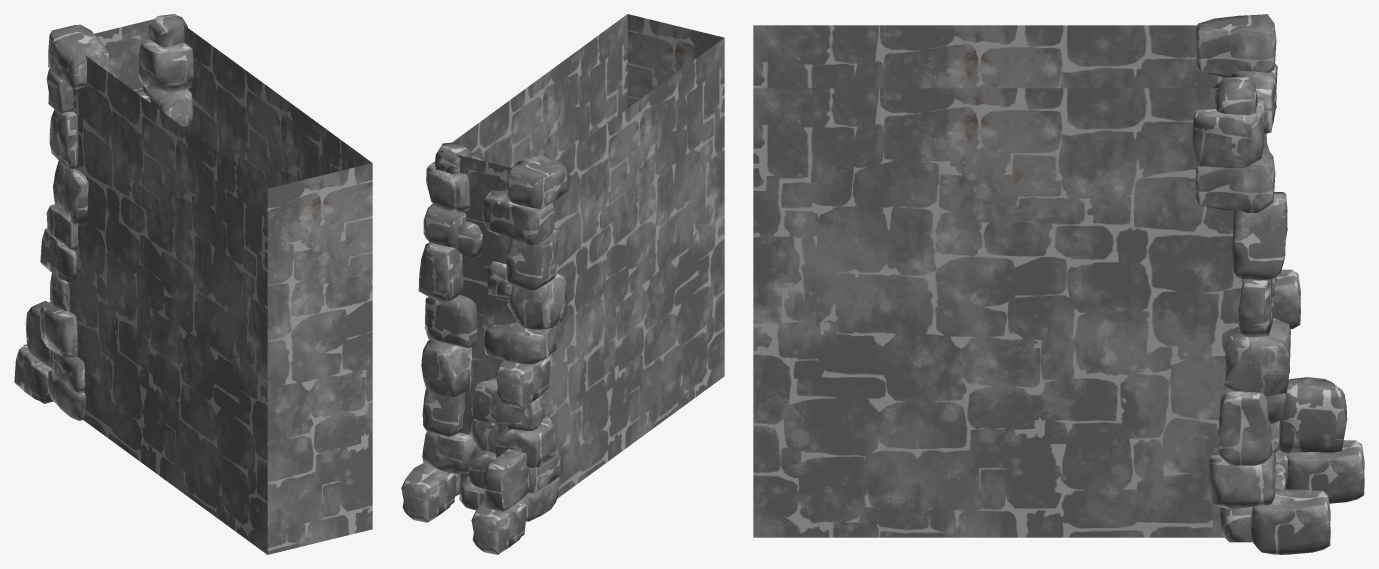
Rendered from Wall_SidePiece_Right.fbx.
3 renders of one model, left to right at view 1: azimuth 30°, elevation 25°; view 2: azimuth 150°, elevation 25°; view 3: azimuth 270°, elevation 25°, orthographic. The views are drawn at different scales.
Visible parts, largest first — view 1: Wall_02.002, Rocks_01.001; view 2: Wall_02.002, Rocks_01.001; view 3: Wall_02.002, Rocks_01.001.
Boxes of the visible parts, x1,y1,x2,y2 form: Wall_02.002: (69, 19, 372, 554); Rocks_01.001: (14, 14, 193, 420); Wall_02.002: (440, 14, 724, 498); Rocks_01.001: (401, 142, 569, 554); Wall_02.002: (753, 25, 1249, 537); Rocks_01.001: (1192, 14, 1364, 554).
Size of the model in its own units: 1.94 by 5.28 by 6.16.
